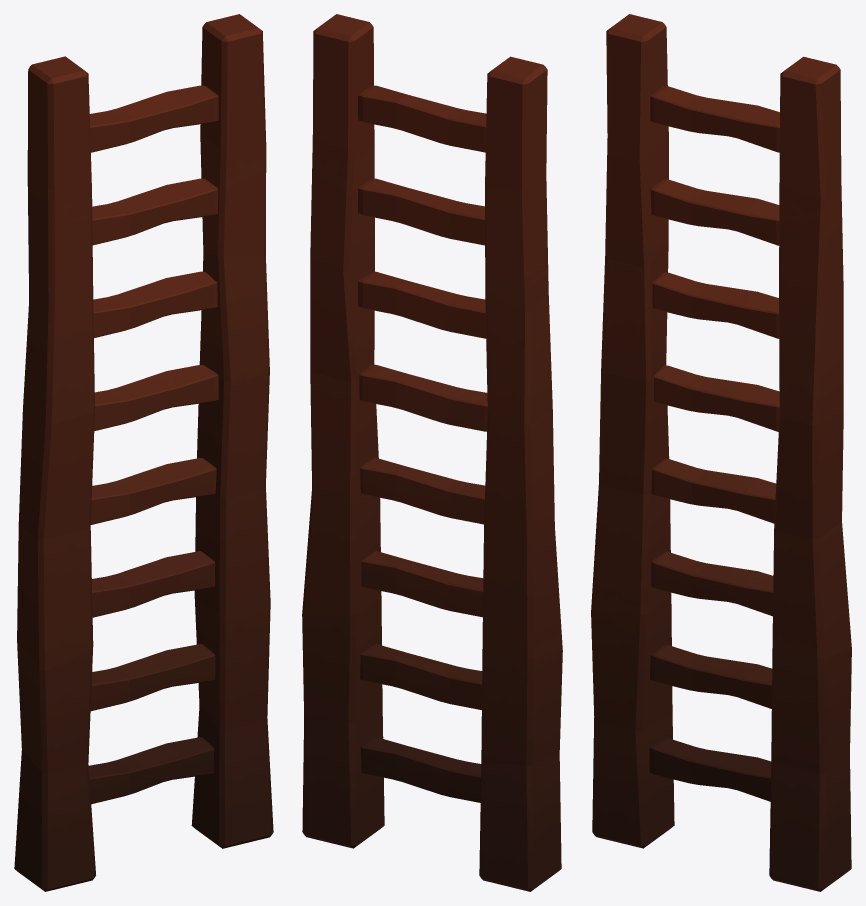
Rendered from FBX_Ladder.fbx.
3 renders of one model, left to right at view 1: azimuth 30°, elevation 25°; view 2: azimuth 150°, elevation 25°; view 3: azimuth 330°, elevation 25°, orthographic.
Parts seen in each view (by area): view 1: M_Ladder; view 2: M_Ladder; view 3: M_Ladder.
Boxes of the visible parts, x1,y1,x2,y2 form: M_Ladder: (14,14,273,891); M_Ladder: (302,14,562,891); M_Ladder: (591,14,851,891).
Size of the model in its own units: 0.6057 by 2 by 0.1508.
